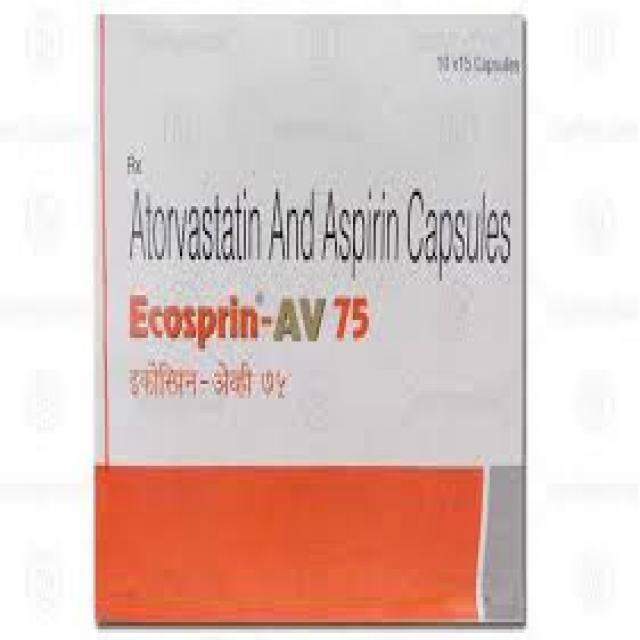authentic: (81, 5, 536, 640)
